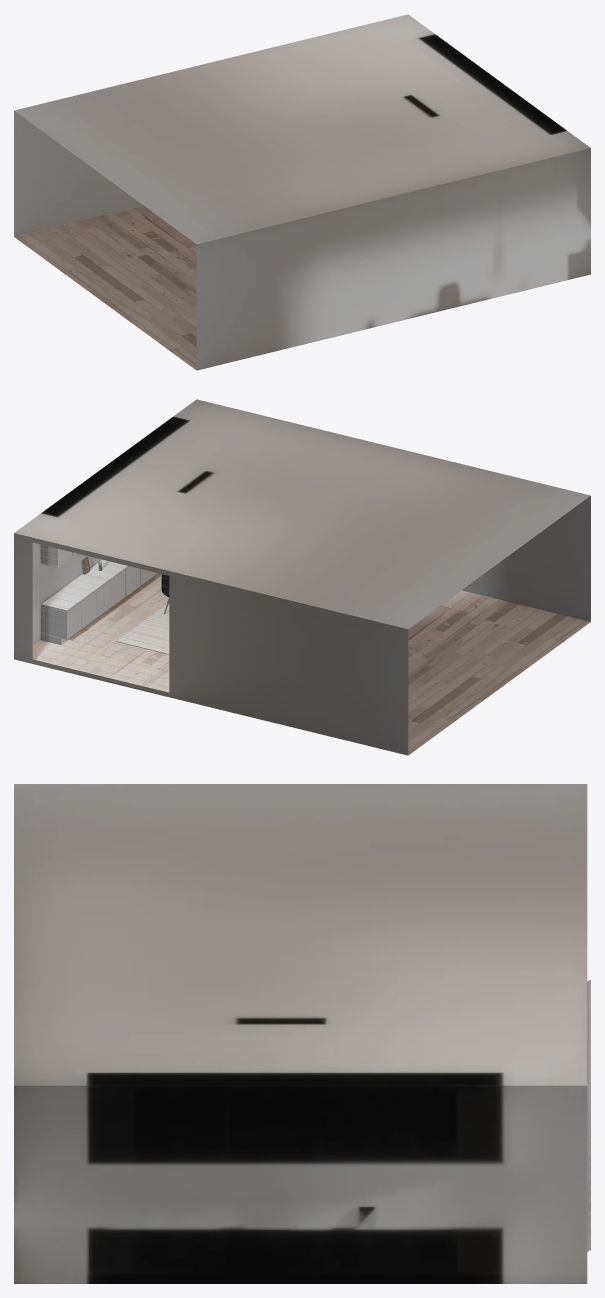
Rendered from kitchen.glb.
3 views of the same model, one above another, from view 1: azimuth 30°, elevation 25°; view 2: azimuth 150°, elevation 25°; view 3: azimuth 270°, elevation 25° (orthographic). The views are drawn at different scales.
Visible parts, largest first — view 1: walls; view 2: walls, kitchen, carpet; view 3: walls.
Boxes of the visible parts, x1,y1,x2,y2 form: walls: [14, 14, 590, 370]; walls: [14, 399, 590, 755]; kitchen: [41, 544, 158, 644]; carpet: [116, 603, 169, 654]; walls: [14, 784, 590, 1283].
Bounding box in the file's own units: 9.85 × 4.02 × 7.96.
10 materials, 8 textured.
